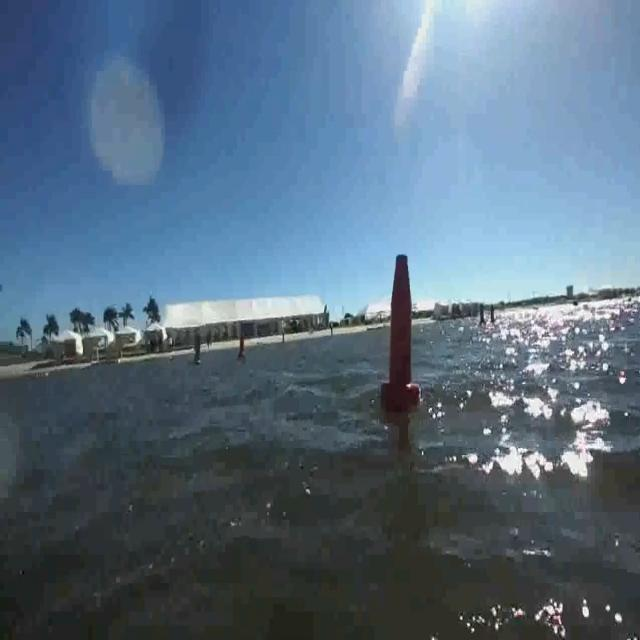red-column-buoy: (379, 250, 418, 410)
